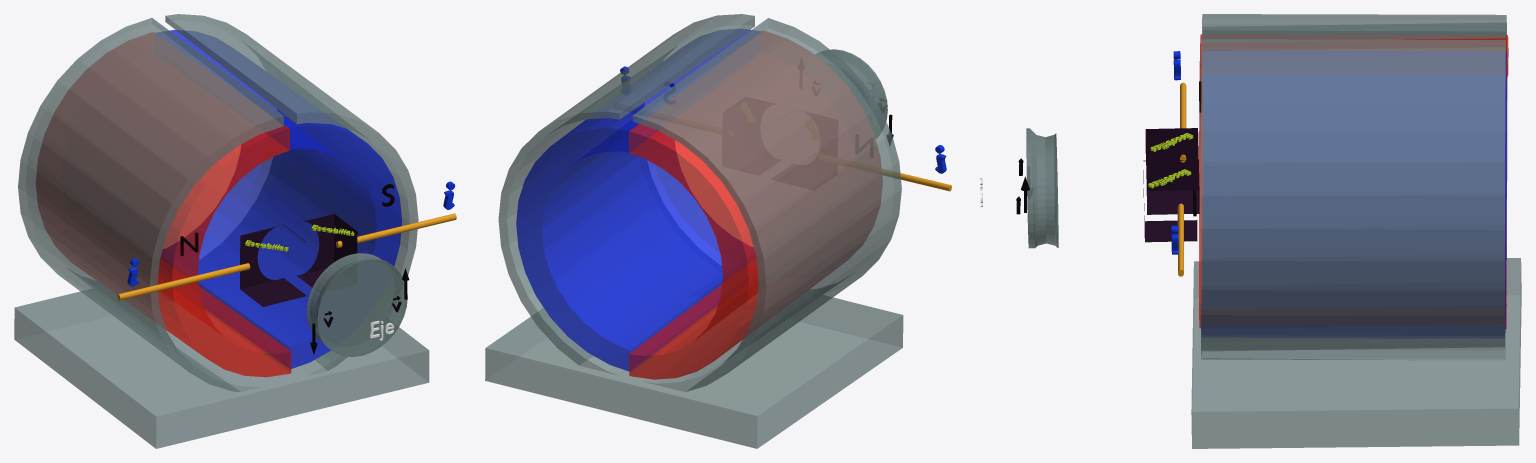
File: MotorElectricoV1.dae
3 renders of one model, left to right at view 1: azimuth 30°, elevation 25°; view 2: azimuth 150°, elevation 25°; view 3: azimuth 270°, elevation 25°, orthographic. The views are drawn at different scales.
Parts seen in each view (by area): view 1: Cubierta, ImanPolNeg.001, ImanPolNeg, Cilindro.006, Cubo.003, Cubo.002, Cilindro.013, Cilindro.014; view 2: Cubierta, ImanPolNeg.001, ImanPolNeg, Cilindro.006, Cilindro.013; view 3: Cubierta, ImanPolNeg, ImanPolNeg.001, Cubo.003, Cilindro.006, Cubo.002.
Boxes of the visible parts, x1,y1,x2,y2 form: Cubierta: (14, 14, 429, 448); ImanPolNeg.001: (36, 32, 291, 377); ImanPolNeg: (156, 30, 402, 368); Cilindro.006: (306, 253, 407, 356); Cubo.003: (240, 225, 306, 306); Cubo.002: (297, 214, 357, 287); Cilindro.013: (117, 263, 250, 300); Cilindro.014: (336, 213, 456, 247); Cubierta: (485, 14, 903, 448); ImanPolNeg.001: (629, 31, 882, 379); ImanPolNeg: (516, 29, 760, 371); Cilindro.006: (815, 49, 887, 138); Cilindro.013: (882, 169, 951, 191); Cubierta: (1191, 14, 1521, 448); ImanPolNeg: (1202, 51, 1506, 337); ImanPolNeg.001: (1199, 34, 1508, 329); Cubo.003: (1145, 128, 1199, 214); Cilindro.006: (1026, 128, 1058, 248); Cubo.002: (1143, 159, 1197, 242).
Size of the model in its own units: 2.72 by 3.33 by 2.31.
